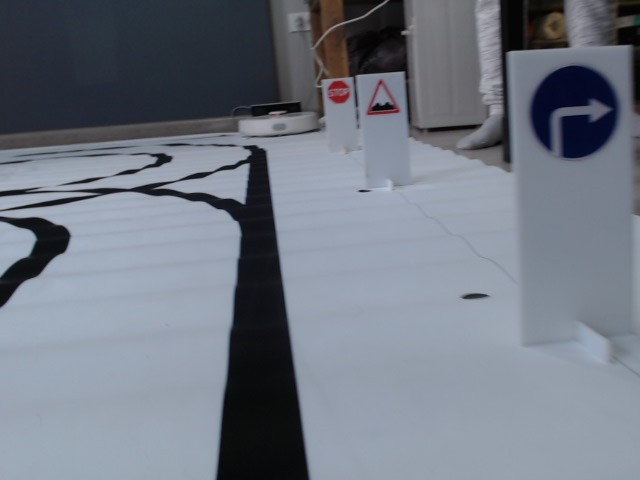Nerov: (366, 79, 401, 116)
Right: (530, 64, 620, 161)
